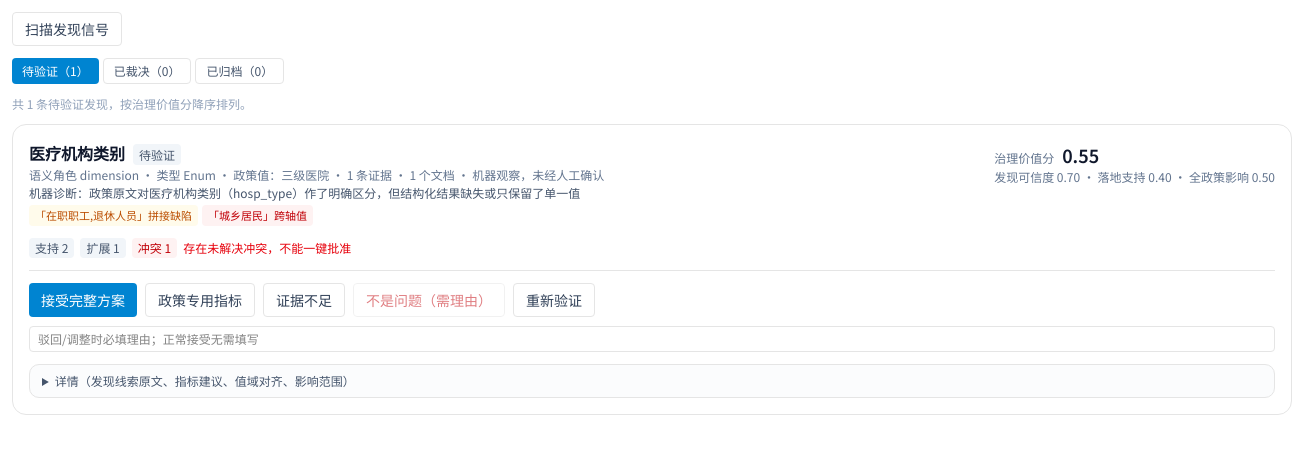
Test: PdscDecisionBoard 一屏多卡决策列表 › 存在冲突时接受完整方案被后端拒绝并显示错误
The image size is (1292, 460).
What coordinates should you click on to do the following:
click the button "接受完整方案"
I would click on:
 (83, 300)
Its box is [29,282,137,316].
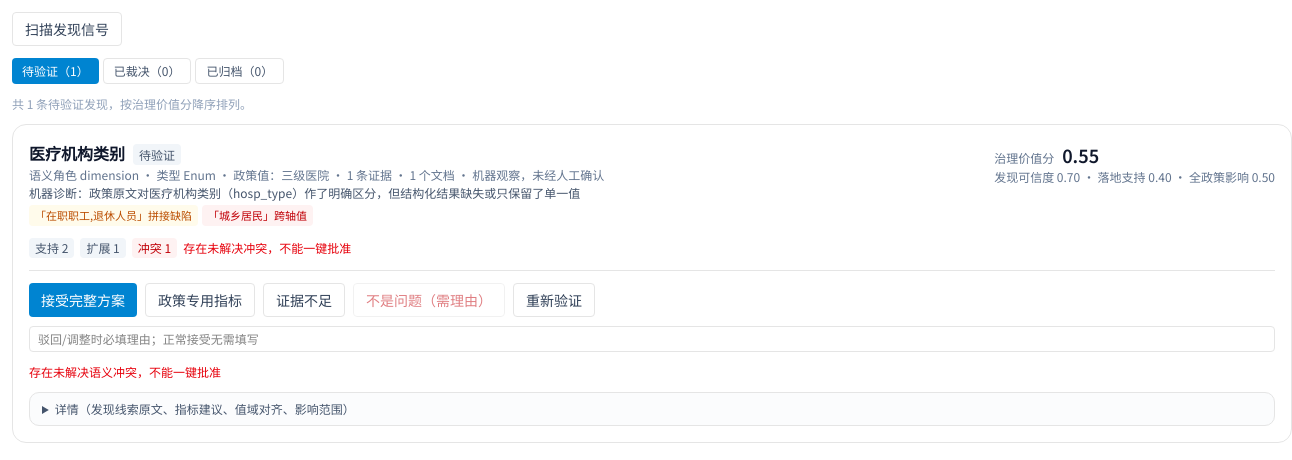
Check: the message shows "不能一键批准", box [29,362,221,380]
